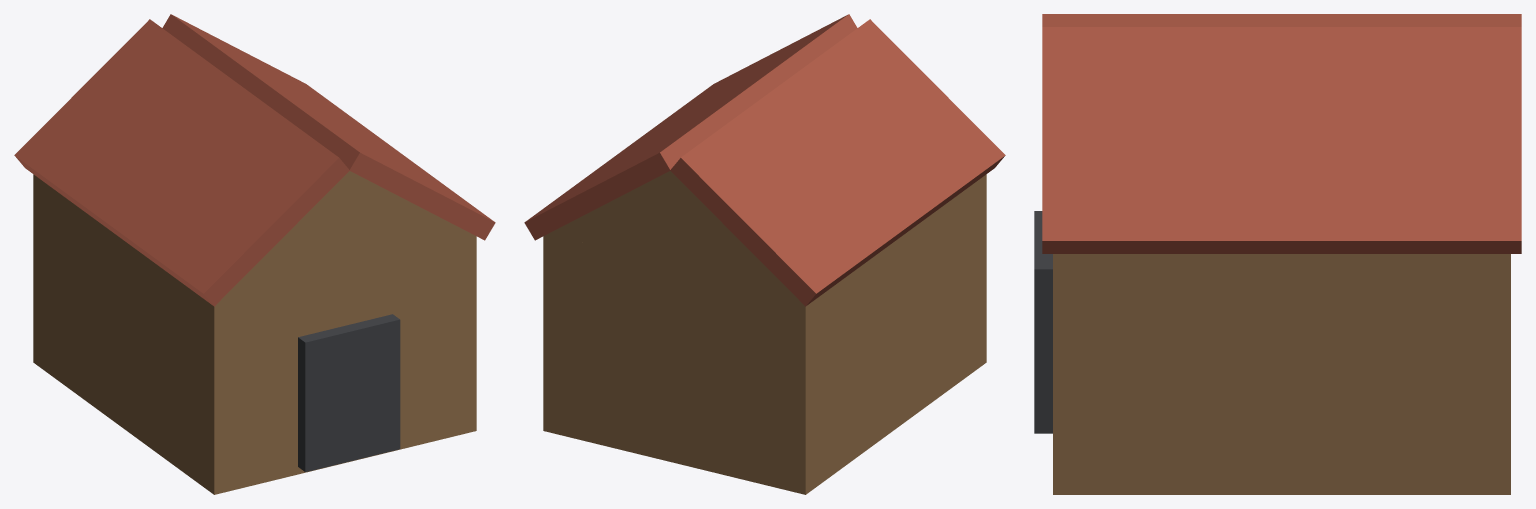
Rendered from dog_house.glb.
3 views of the same model, side by side, from view 1: azimuth 30°, elevation 25°; view 2: azimuth 150°, elevation 25°; view 3: azimuth 270°, elevation 25° (orthographic). The views are drawn at different scales.
Visible parts, largest first — view 1: dog_house; view 2: dog_house; view 3: dog_house.
Boxes of the visible parts, x1,y1,x2,y2 form: dog_house: [14, 14, 495, 494]; dog_house: [524, 14, 1005, 494]; dog_house: [1034, 14, 1521, 494].
Bounding box in the file's own units: 0.8015 × 0.8154 × 0.915.
